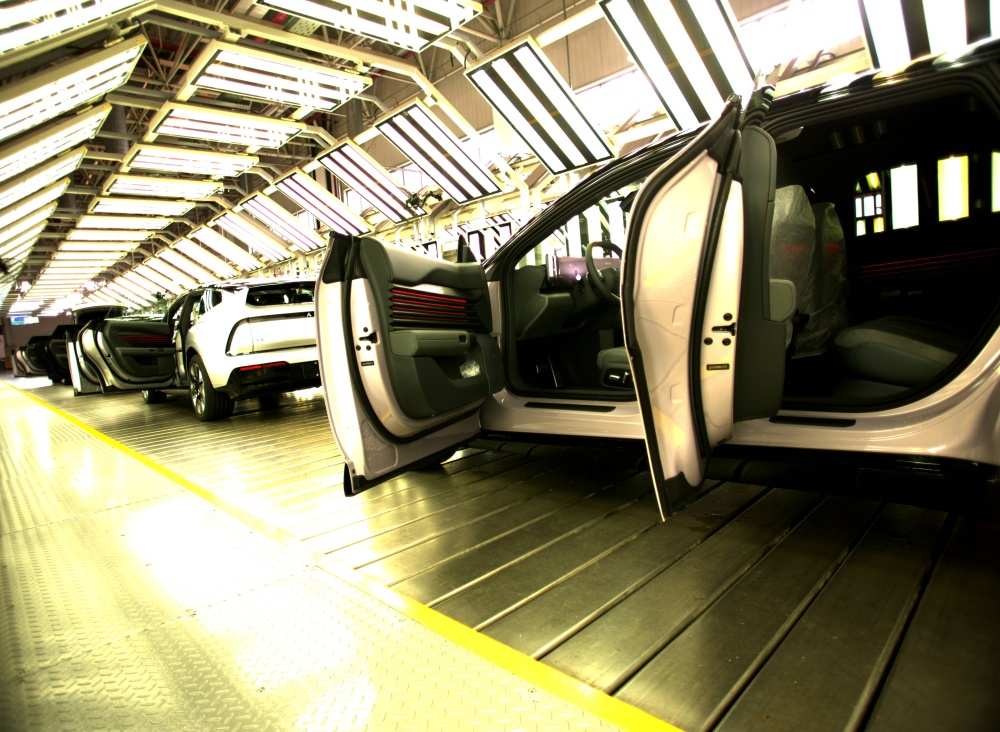armrest_color: (387, 328, 474, 358)
panel_color: (385, 278, 471, 332)
